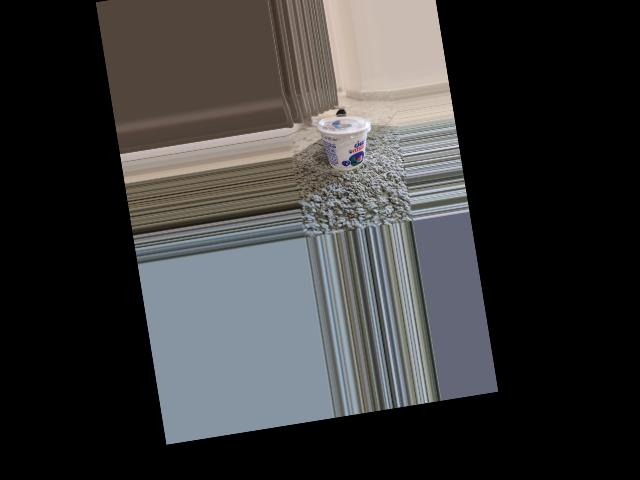cotage: (318, 110, 374, 175)
